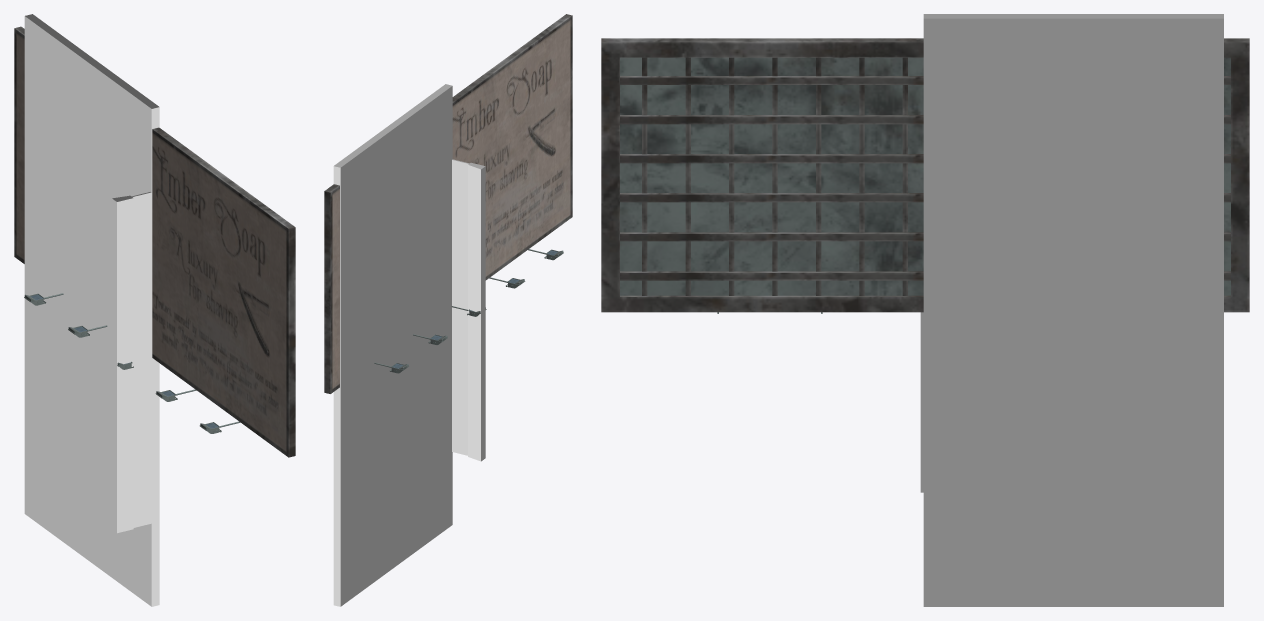
The model's file is SM_Billboard_23.fbx.
3 views of the same model, side by side, from view 1: azimuth 30°, elevation 25°; view 2: azimuth 150°, elevation 25°; view 3: azimuth 270°, elevation 25° (orthographic). The views are drawn at different scales.
Parts seen in each view (by area): view 1: SM_Billboard_23_ConvexHulls, SM_Billboard_23_LOD0; view 2: SM_Billboard_23_ConvexHulls, SM_Billboard_23_LOD0; view 3: SM_Billboard_23_ConvexHulls, SM_Billboard_23_LOD0.
Boxes of the visible parts, x1=… form: SM_Billboard_23_ConvexHulls: x1=24, y1=14, x2=159, y2=606; SM_Billboard_23_LOD0: x1=14, y1=26, x2=295, y2=457; SM_Billboard_23_ConvexHulls: x1=333, y1=84, x2=485, y2=606; SM_Billboard_23_LOD0: x1=324, y1=14, x2=572, y2=393; SM_Billboard_23_ConvexHulls: x1=920, y1=14, x2=1223, y2=606; SM_Billboard_23_LOD0: x1=601, y1=38, x2=1249, y2=313.
Size of the model in its own units: 116 by 1250 by 1252.
